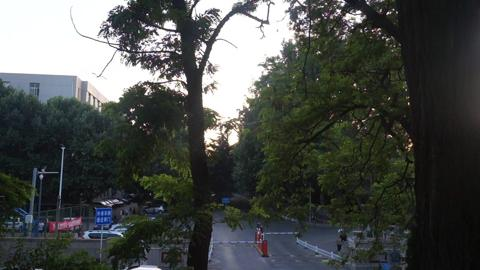UAV: (276, 68, 285, 74)
